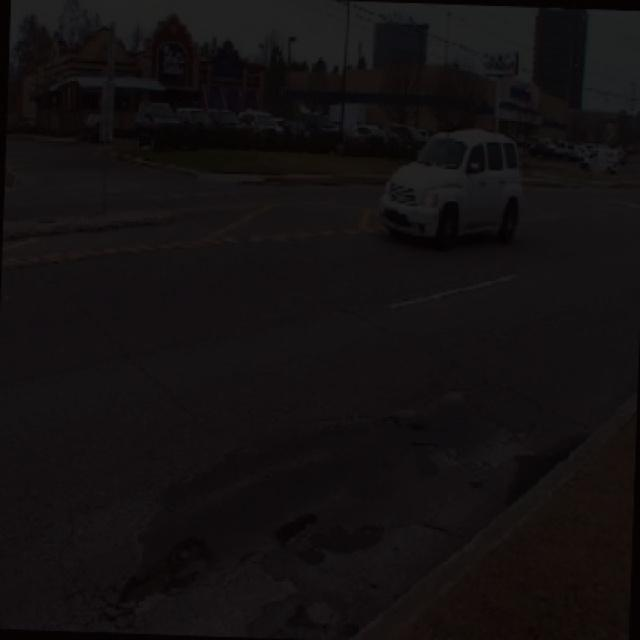Pothole: (467, 428, 594, 518), (104, 528, 221, 618), (281, 600, 364, 640), (265, 502, 327, 552)
